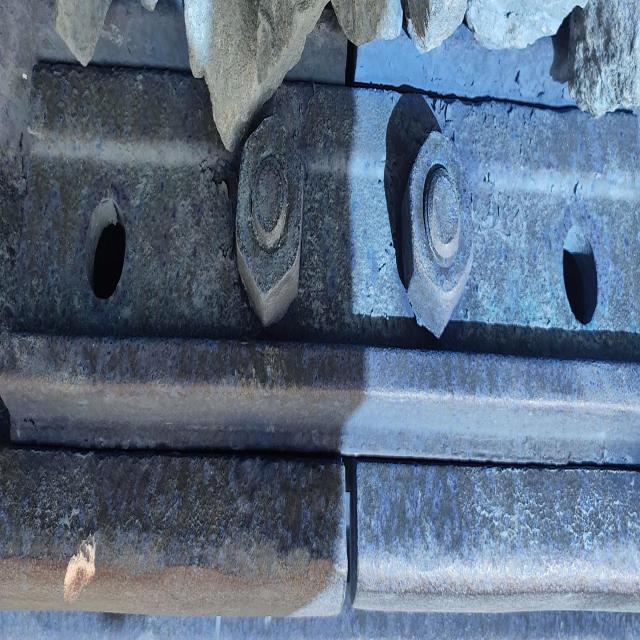Defective Joint: (10, 46, 640, 453)
